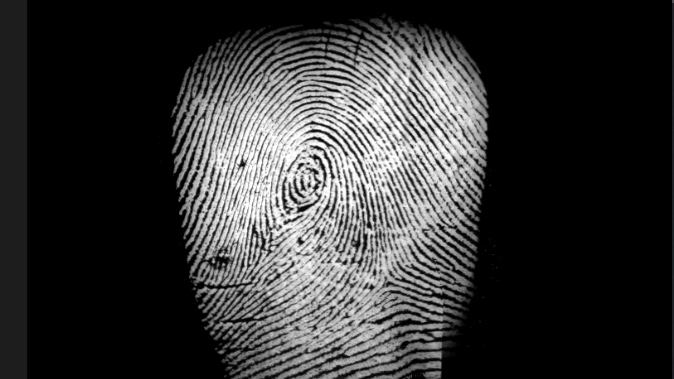deltas: (361, 259, 419, 307), (246, 208, 293, 265)
nucleo: (280, 153, 328, 194)
